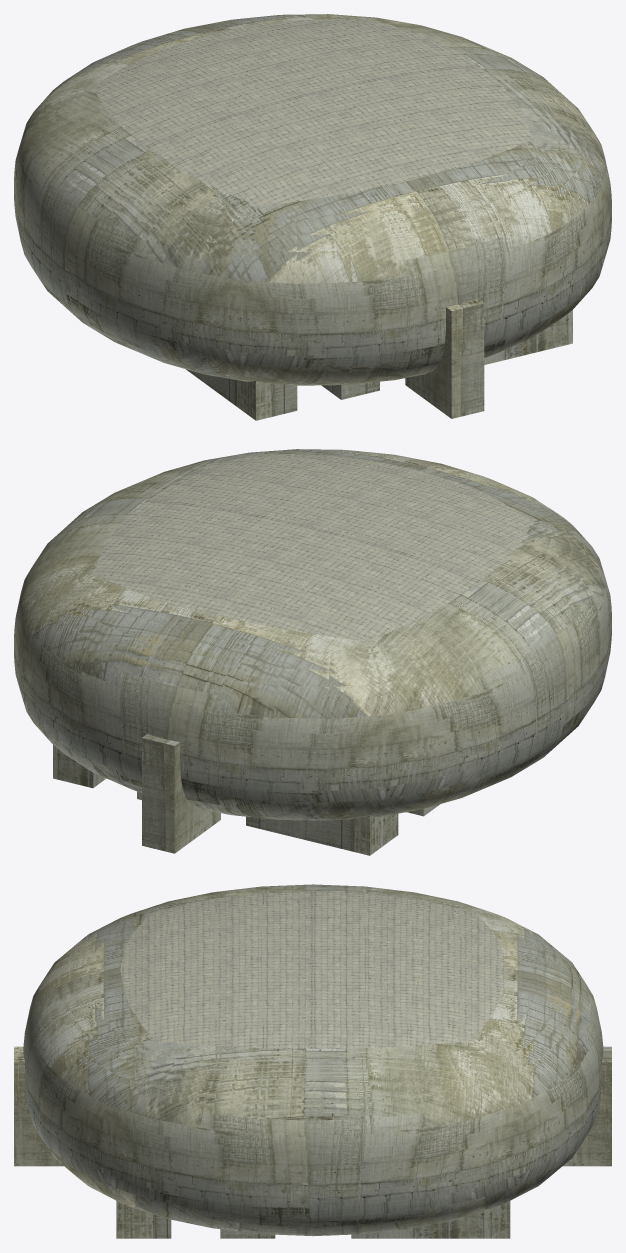
File: SM_LDFest_02_SHADOW.fbx
3 views of the same model, one above another, from view 1: azimuth 30°, elevation 25°; view 2: azimuth 150°, elevation 25°; view 3: azimuth 270°, elevation 25° (orthographic). The views are drawn at different scales.
Parts seen in each view (by area): view 1: SM_LDFest_02_SHADOW; view 2: SM_LDFest_02_SHADOW; view 3: SM_LDFest_02_SHADOW.
Boxes of the visible parts, x1,y1,x2,y2 form: SM_LDFest_02_SHADOW: (14, 14, 611, 420); SM_LDFest_02_SHADOW: (14, 449, 611, 855); SM_LDFest_02_SHADOW: (14, 884, 611, 1238).
Bounding box in the file's own units: 3994 × 1627 × 4263.
